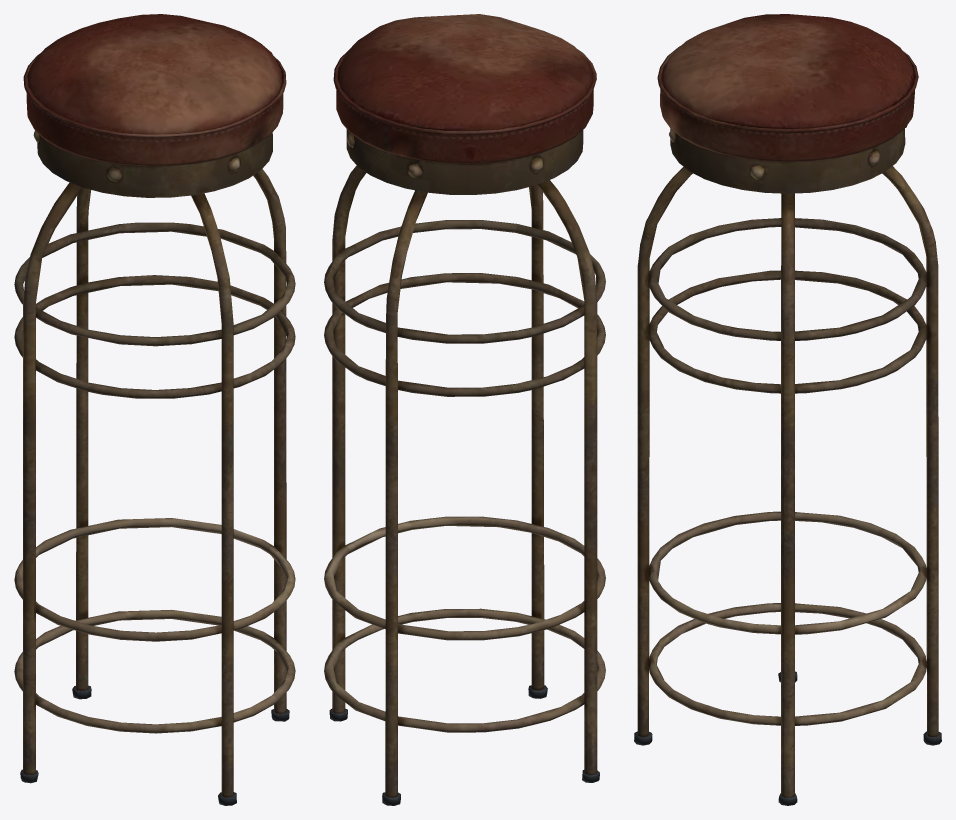
Rendered from metal_stool_01.glb.
3 views of the same model, side by side, from view 1: azimuth 30°, elevation 25°; view 2: azimuth 150°, elevation 25°; view 3: azimuth 270°, elevation 25° (orthographic).
Visible parts, largest first — view 1: metal_stool_01; view 2: metal_stool_01; view 3: metal_stool_01.
Boxes of the visible parts, left/top/right/bottom form: metal_stool_01: left=14, top=14, right=295, bottom=805; metal_stool_01: left=324, top=14, right=605, bottom=805; metal_stool_01: left=634, top=14, right=941, bottom=805.
Bounding box in the file's own units: 0.351 × 0.8824 × 0.3538.
Materials: 1 (1 with a texture image).
